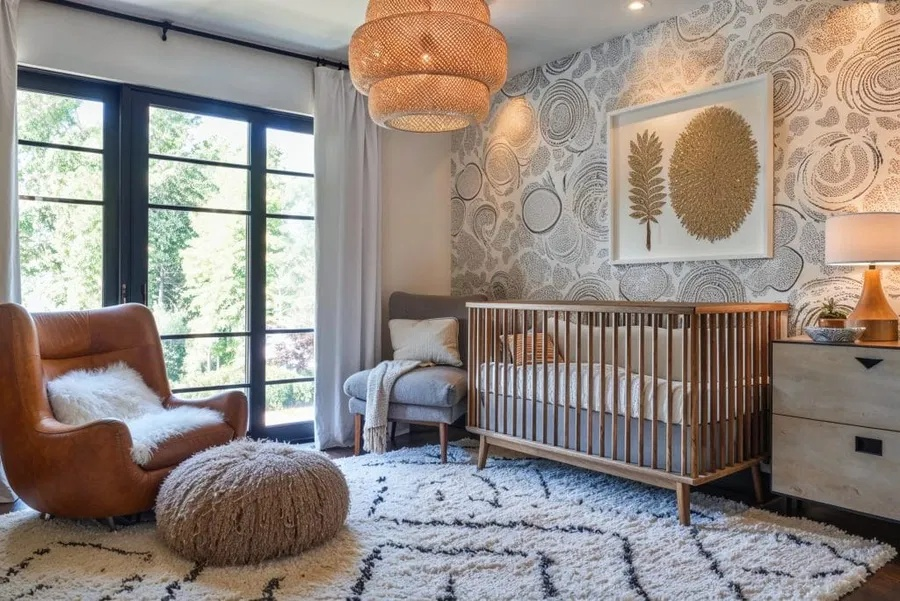crib: (468, 302, 788, 524)
